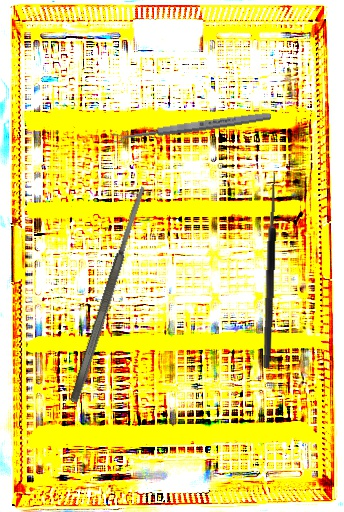Hook Surgical: (253, 171, 279, 368)
Spatula Surgical: (67, 184, 150, 404)
Surgical Spoon: (111, 110, 272, 144)
